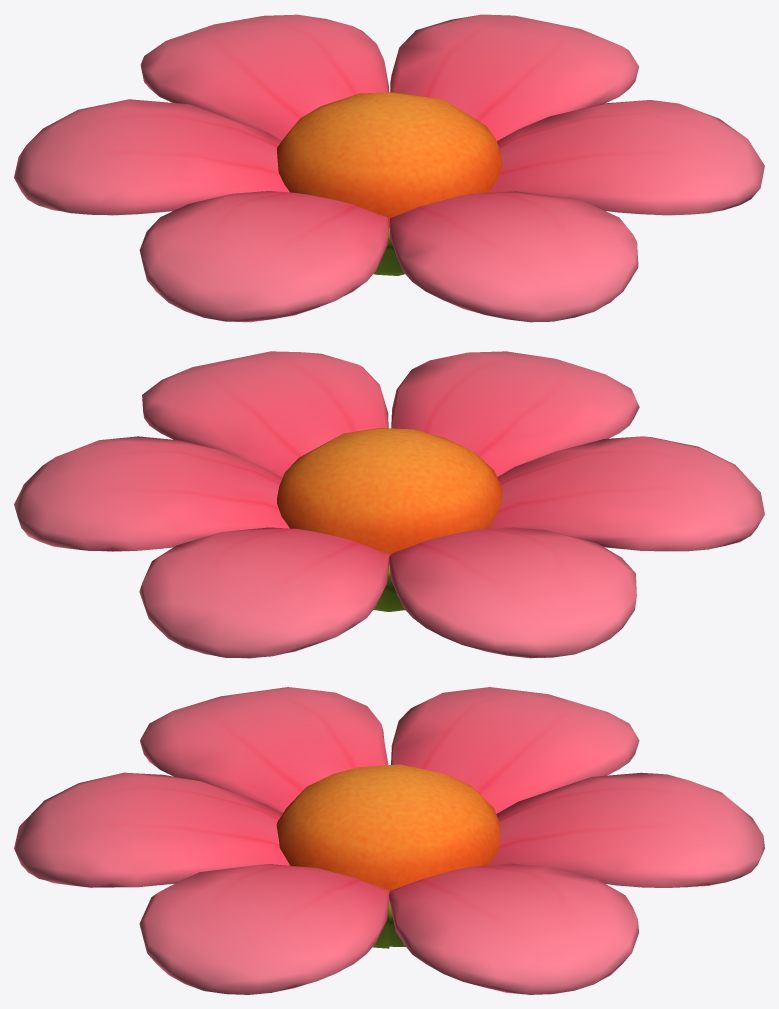
Rendered from flower.fbx.
3 views of the same model, one above another, from view 1: azimuth 30°, elevation 25°; view 2: azimuth 150°, elevation 25°; view 3: azimuth 270°, elevation 25° (orthographic).
Visible parts, largest first — view 1: flower; view 2: flower; view 3: flower.
Boxes of the visible parts, box(x1,y1,x2,y2) form: flower: box(14, 14, 764, 322); flower: box(14, 351, 764, 658); flower: box(14, 687, 764, 994).
Size of the model in its own units: 88.87 by 22.8 by 97.44.
1 material, 1 textured.
